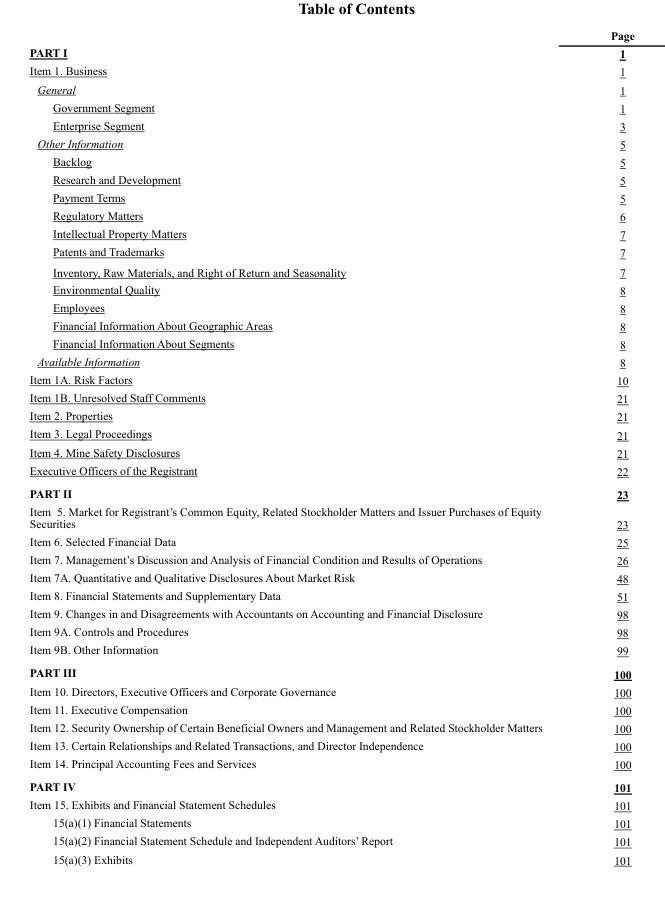table: (28, 28, 633, 866)
table column: (28, 28, 575, 866), (575, 28, 633, 866)
table column header: (28, 28, 633, 43)
table row: (28, 502, 633, 532), (28, 481, 633, 502), (28, 640, 633, 661), (28, 661, 633, 682), (28, 754, 633, 775), (28, 242, 633, 262), (28, 461, 633, 481), (28, 775, 633, 795), (28, 61, 633, 80), (28, 406, 633, 425), (28, 813, 633, 832), (28, 43, 633, 61), (28, 80, 633, 98), (28, 98, 633, 116), (28, 116, 633, 134), (28, 134, 633, 152), (28, 152, 633, 170), (28, 170, 633, 188), (28, 188, 633, 206), (28, 206, 633, 224), (28, 224, 633, 242), (28, 262, 633, 280), (28, 280, 633, 298), (28, 298, 633, 316), (28, 316, 633, 334), (28, 334, 633, 352), (28, 352, 633, 370), (28, 370, 633, 388), (28, 388, 633, 406), (28, 425, 633, 443), (28, 443, 633, 461), (28, 532, 633, 550), (28, 550, 633, 568), (28, 568, 633, 586), (28, 586, 633, 604), (28, 604, 633, 622), (28, 622, 633, 640), (28, 682, 633, 700), (28, 700, 633, 718), (28, 718, 633, 736), (28, 736, 633, 754), (28, 795, 633, 813), (28, 832, 633, 850), (28, 850, 633, 866), (28, 28, 633, 43)
